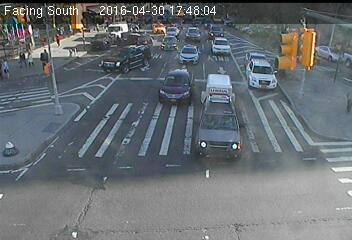neg: (239, 51, 257, 76), (192, 134, 208, 155), (198, 80, 212, 98)
pos: (49, 30, 65, 51)
